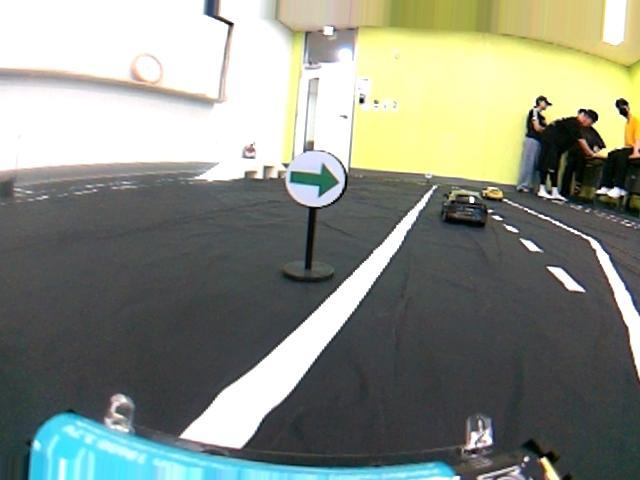car: (442, 190, 492, 225), (485, 186, 503, 200)
sign_right: (284, 148, 347, 209)
straight: (5, 200, 640, 480)
